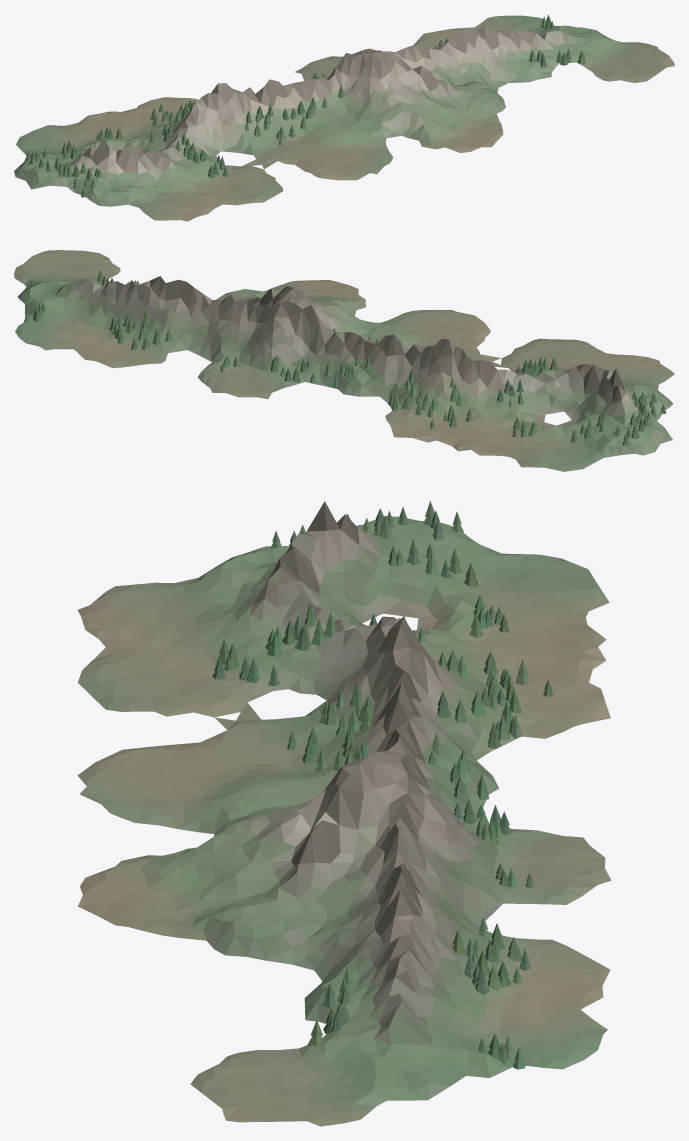
File: range_nanling.glb
The picture shows the model from 3 angles, top to bottom: view 1: azimuth 30°, elevation 25°; view 2: azimuth 150°, elevation 25°; view 3: azimuth 270°, elevation 25°; orthographic projection. The views are drawn at different scales.
Visible parts, largest first — view 1: range_nanling, trees_nanling; view 2: range_nanling, trees_nanling; view 3: range_nanling, trees_nanling.
Boxes of the visible parts, bbox=[...] form: range_nanling: bbox=[14, 15, 674, 221]; trees_nanling: bbox=[25, 15, 585, 197]; range_nanling: bbox=[14, 250, 674, 471]; trees_nanling: bbox=[23, 270, 666, 445]; range_nanling: bbox=[77, 501, 611, 1126]; trees_nanling: bbox=[212, 501, 552, 1069].
Bounding box in the file's own units: 341 × 28.09 × 128.
